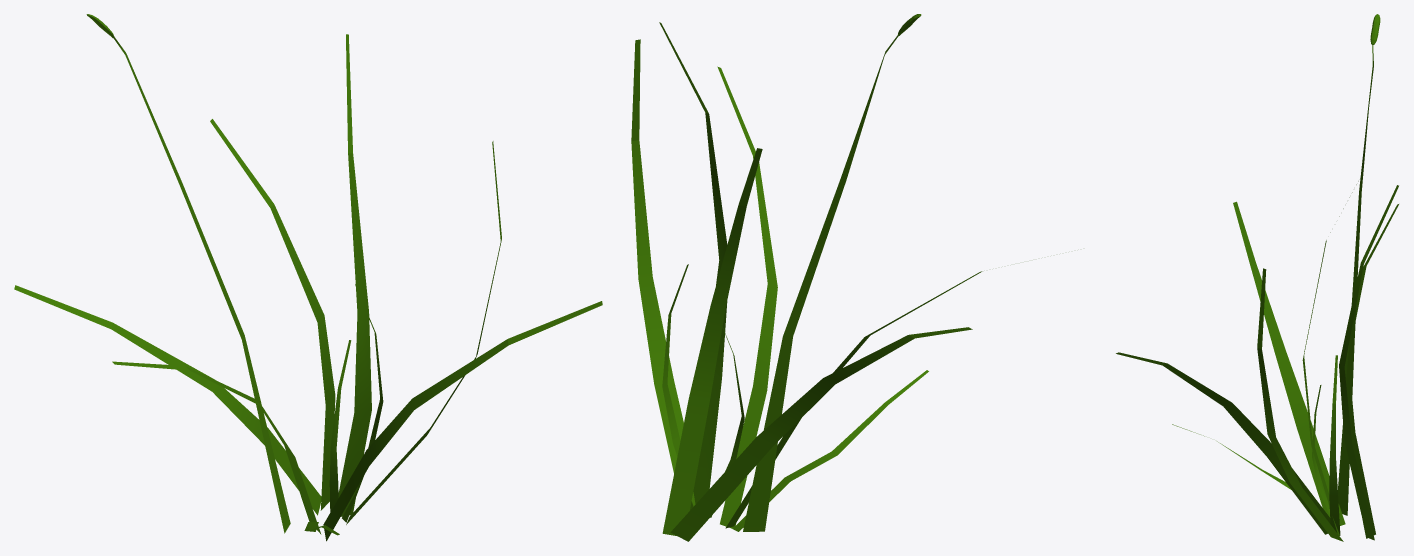
Rendered from grass 5.fbx.
3 views of the same model, side by side, from view 1: azimuth 30°, elevation 25°; view 2: azimuth 150°, elevation 25°; view 3: azimuth 270°, elevation 25° (orthographic). The views are drawn at different scales.
Parts seen in each view (by area): view 1: allGrass_001:grassClump_006pSphere8; view 2: allGrass_001:grassClump_006pSphere8; view 3: allGrass_001:grassClump_006pSphere8.
Part boxes in pixels (box(x1,y1,x2,y2)): allGrass_001:grassClump_006pSphere8: box(14, 14, 602, 541); allGrass_001:grassClump_006pSphere8: box(631, 14, 982, 541); allGrass_001:grassClump_006pSphere8: box(1116, 14, 1398, 541).
Bounding box in the file's own units: 7.52 × 9.57 × 5.59.
